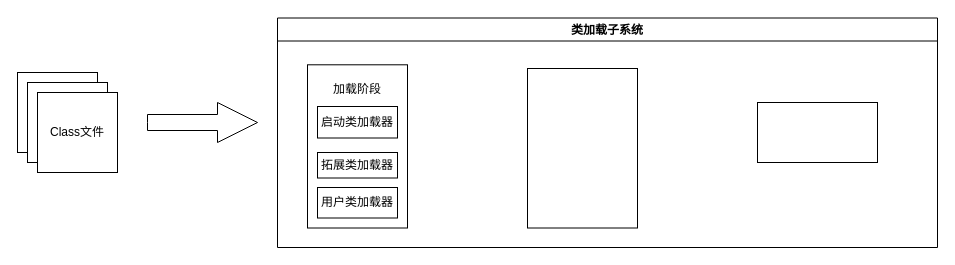
Image size: 955x265. Some labels were removed from this diagram. The shapes that lost their labels are listed below. From the top down, each one's box as (x1, y1, x2, y2) in pixels, then its label:
(526, 68, 638, 228): 链接阶段
(756, 102, 878, 162): 初始化阶段
